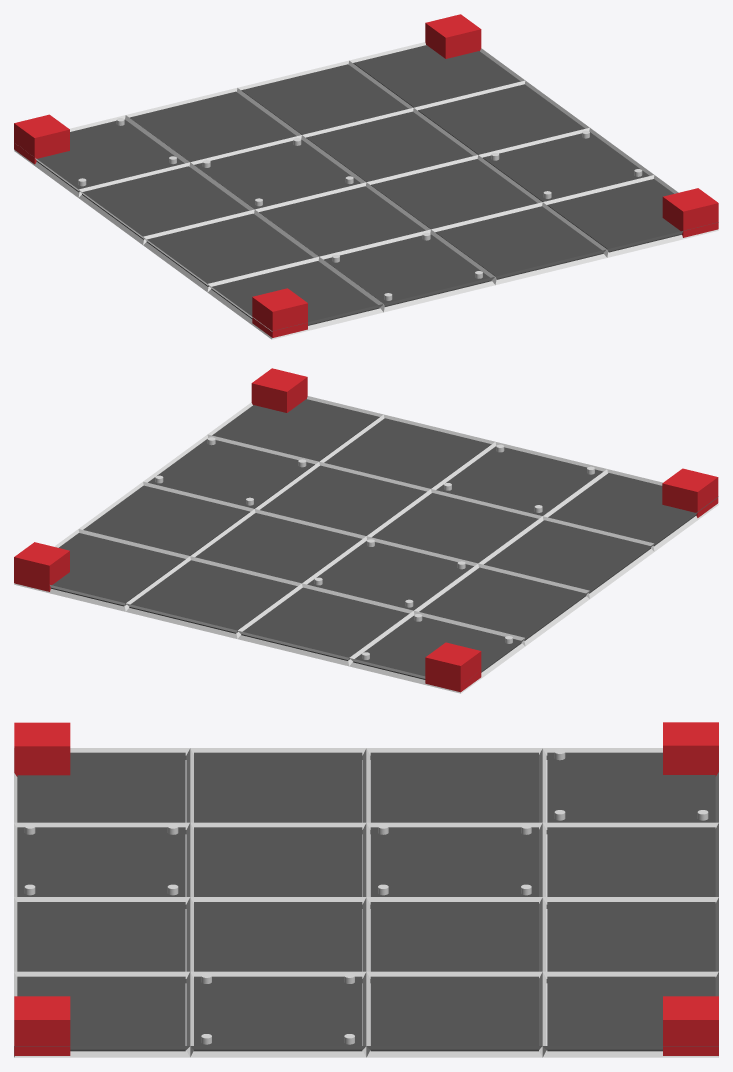
Rendered from Open.fbx.
The picture shows the model from 3 angles, top to bottom: view 1: azimuth 30°, elevation 25°; view 2: azimuth 150°, elevation 25°; view 3: azimuth 270°, elevation 25°; orthographic projection. The views are drawn at different scales.
Visible parts, largest first — view 1: Base, Plane, Cube, Cylinder; view 2: Base, Plane, Cube, Cylinder; view 3: Base, Plane, Cube, Cylinder.
Boxes of the visible parts, <box> form: Base: <box>36,45,681,325</box>; Plane: <box>14,42,718,339</box>; Cube: <box>14,14,718,337</box>; Cylinder: <box>78,118,642,300</box>; Base: <box>51,399,696,679</box>; Plane: <box>14,396,718,693</box>; Cube: <box>14,368,718,692</box>; Cylinder: <box>155,437,594,659</box>; Base: <box>17,752,715,1051</box>; Plane: <box>14,748,718,1057</box>; Cube: <box>14,722,718,1055</box>; Cylinder: <box>24,749,708,1044</box>.
Bounding box in the file's own units: 1 × 0.0612 × 1.
